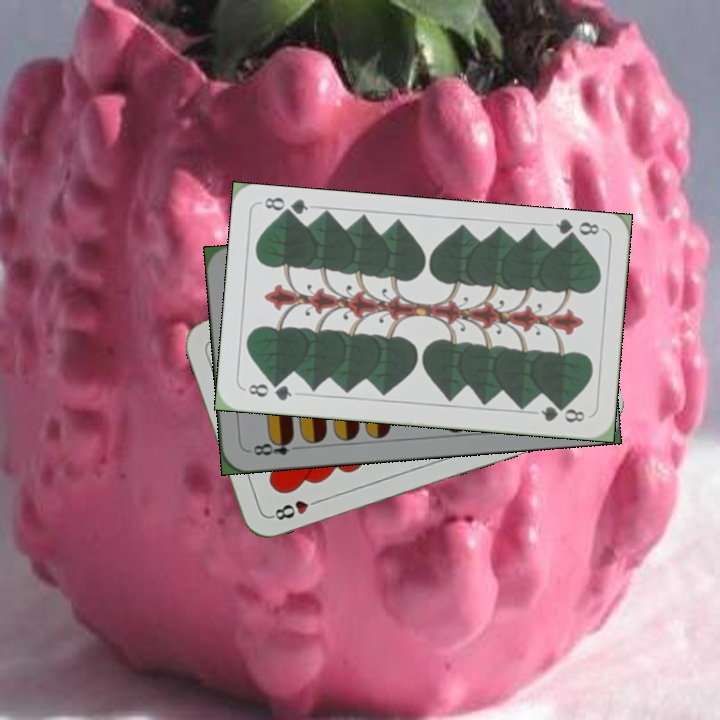E8: (245, 433, 304, 458)
G8: (551, 216, 602, 244), (244, 378, 295, 404)
H8: (267, 494, 324, 523)
